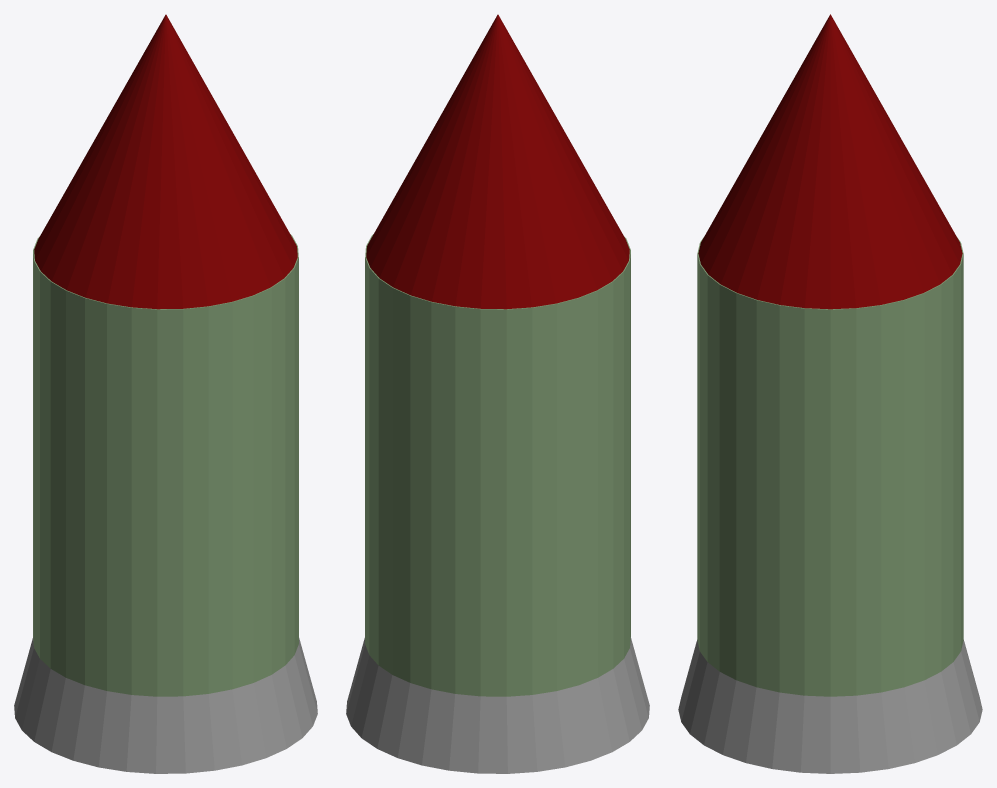
File: Rocket.fbx
3 views of the same model, side by side, from view 1: azimuth 30°, elevation 25°; view 2: azimuth 150°, elevation 25°; view 3: azimuth 270°, elevation 25° (orthographic).
Visible parts, largest first — view 1: Body, Head, Base; view 2: Body, Head, Base; view 3: Body, Head, Base.
Part boxes in pixels (x1,y1,x2,y2): Body: (33, 234, 298, 696); Head: (34, 14, 297, 309); Base: (14, 637, 317, 773); Body: (365, 234, 630, 696); Head: (366, 14, 629, 309); Base: (346, 637, 649, 773); Body: (697, 236, 963, 696); Head: (698, 14, 962, 309); Base: (678, 640, 982, 773).
Size of the model in its own units: 229 by 577 by 229.
